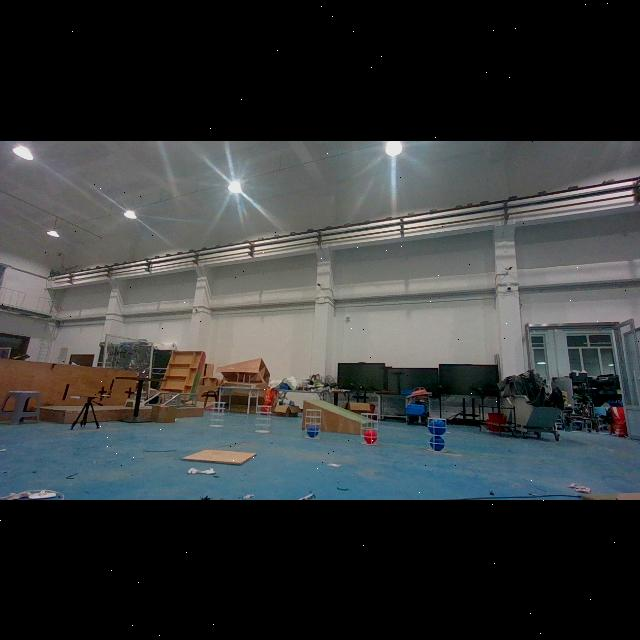B: (428, 420, 447, 436), (429, 436, 445, 450), (306, 424, 320, 438)
R: (363, 431, 377, 443)
S: (426, 416, 450, 454), (359, 410, 381, 448), (302, 405, 324, 441), (206, 398, 228, 430), (254, 404, 274, 434)
